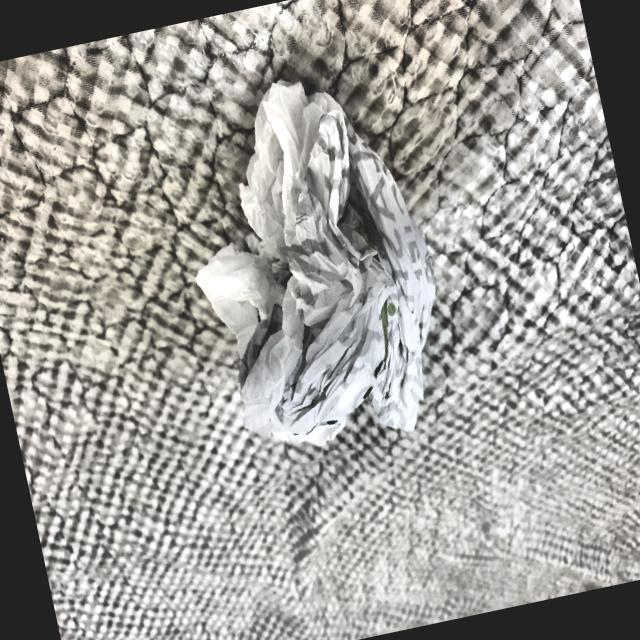plastic bag: (150, 47, 478, 479)
